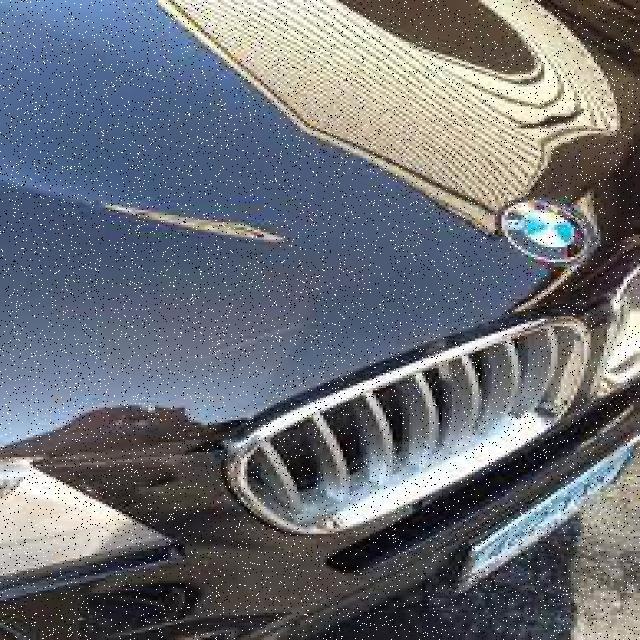bonnet-dent: (0, 3, 442, 591)
